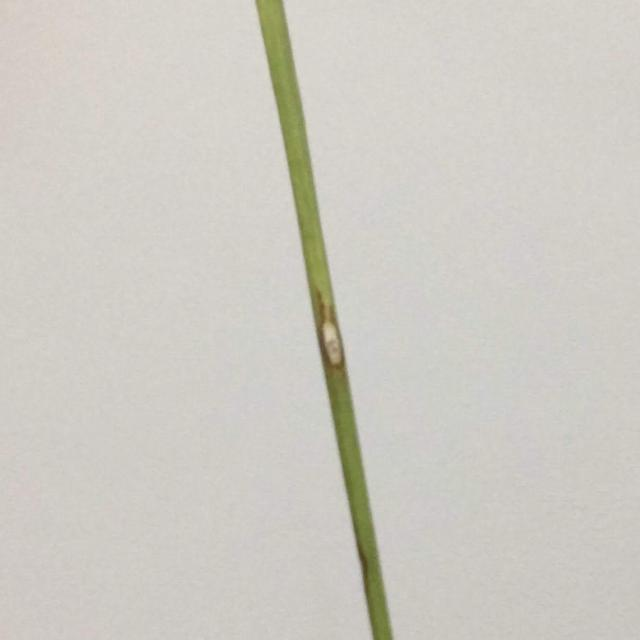Blast: (322, 319, 342, 370)
